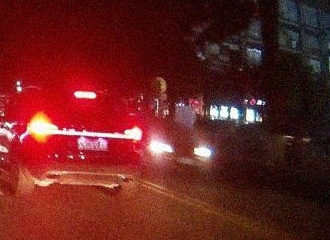L_light: (27, 121, 58, 135)
R_light: (123, 127, 141, 141)
T_light: (74, 92, 97, 99)
night-left: (26, 86, 141, 200)
